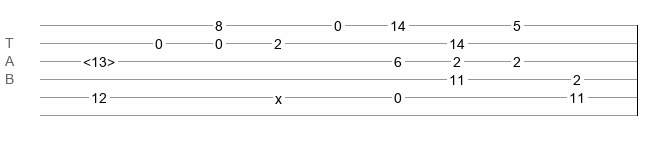0: (155, 36, 163, 46), (215, 36, 223, 46), (334, 18, 342, 28), (394, 90, 402, 100)
11: (449, 72, 465, 82), (569, 90, 585, 100)
12: (91, 90, 107, 100)
14: (390, 18, 406, 28), (449, 36, 465, 46)
2: (274, 36, 282, 46), (453, 54, 461, 64), (513, 54, 521, 64), (573, 72, 581, 82)
5: (513, 18, 521, 28)
6: (394, 54, 402, 64)
8: (215, 18, 223, 28)
harmonic: (83, 54, 115, 64)
x: (275, 91, 282, 99)
